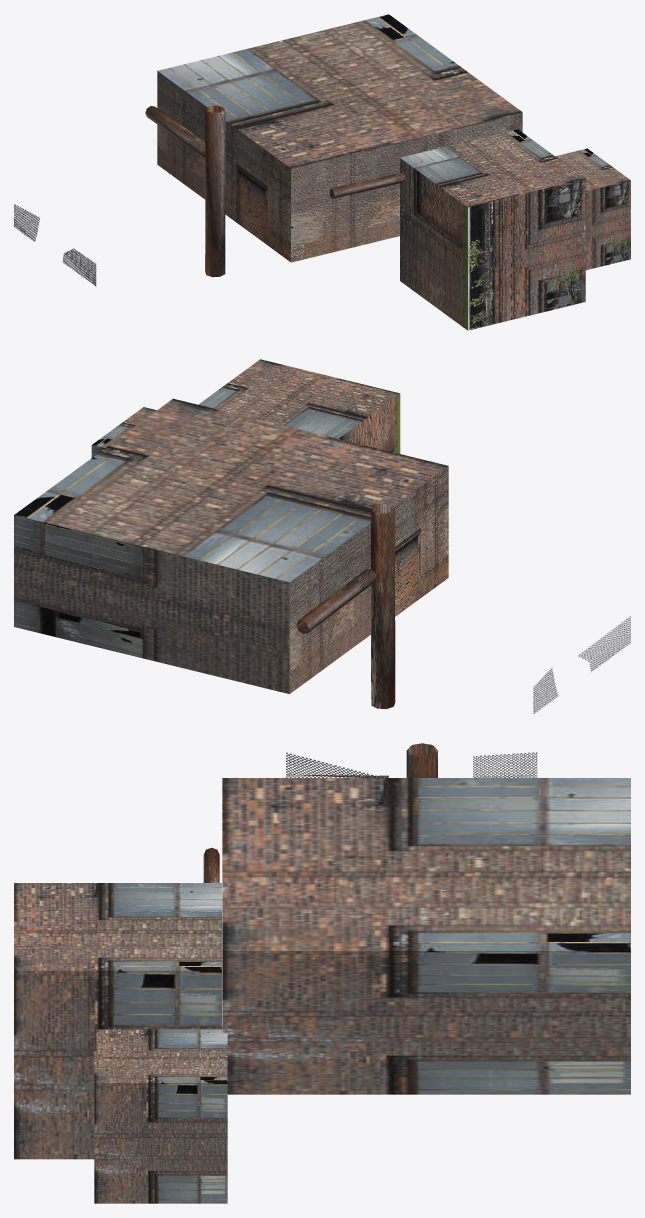
The model's file is Planta.glb.
The picture shows the model from 3 angles, top to bottom: view 1: azimuth 30°, elevation 25°; view 2: azimuth 150°, elevation 25°; view 3: azimuth 270°, elevation 25°; orthographic projection. The views are drawn at different scales.
Visible parts, largest first — view 1: Cube.036, Cube.037, Cube.038, Cube.039, Cube.035, Cube.040, Cube.041; view 2: Cube.036, Cube.037, Cube.039, Cube.035, Cube.040, Cube.038; view 3: Cube.036, Cube.037, Cube.038, Cube.035, Cube.039.
Part boxes in pixels (x1=…): Cube.036: x1=157, y1=14, x2=522, y2=262; Cube.037: x1=400, y1=129, x2=585, y2=330; Cube.038: x1=555, y1=148, x2=630, y2=270; Cube.039: x1=205, y1=105, x2=225, y2=277; Cube.035: x1=14, y1=204, x2=96, y2=286; Cube.040: x1=145, y1=106, x2=205, y2=156; Cube.041: x1=329, y1=172, x2=405, y2=198; Cube.036: x1=14, y1=398, x2=448, y2=693; Cube.037: x1=198, y1=359, x2=400, y2=453; Cube.039: x1=371, y1=504, x2=395, y2=709; Cube.035: x1=533, y1=616, x2=630, y2=713; Cube.040: x1=296, y1=569, x2=376, y2=633; Cube.038: x1=91, y1=407, x2=156, y2=457; Cube.036: x1=222, y1=778, x2=630, y2=1094; Cube.037: x1=14, y1=883, x2=221, y2=1159; Cube.038: x1=94, y1=1027, x2=227, y2=1203; Cube.035: x1=286, y1=752, x2=537, y2=777; Cube.039: x1=406, y1=743, x2=437, y2=777.
Bounding box in the file's own units: 17.55 × 5.82 × 12.99.
Materials: 3 (3 with a texture image).
